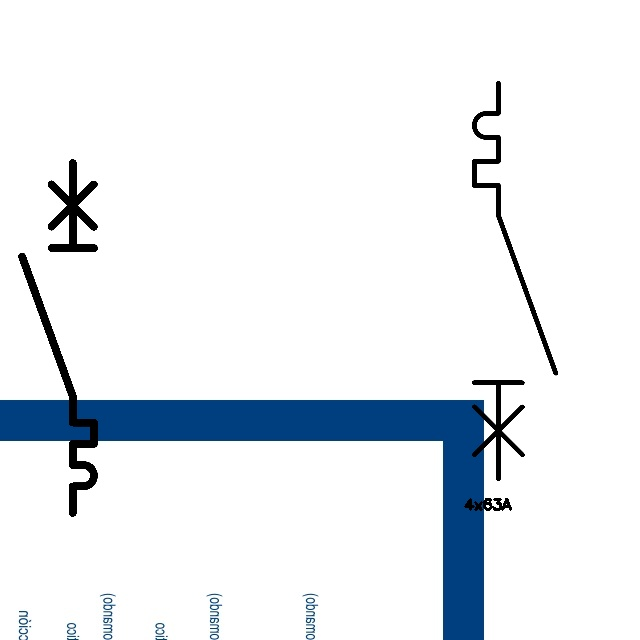interruptor_termomagnetico: (464, 73, 566, 489), (13, 154, 103, 522)
